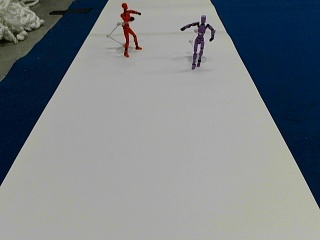pedestrian: (180, 14, 215, 68), (119, 2, 141, 56)
